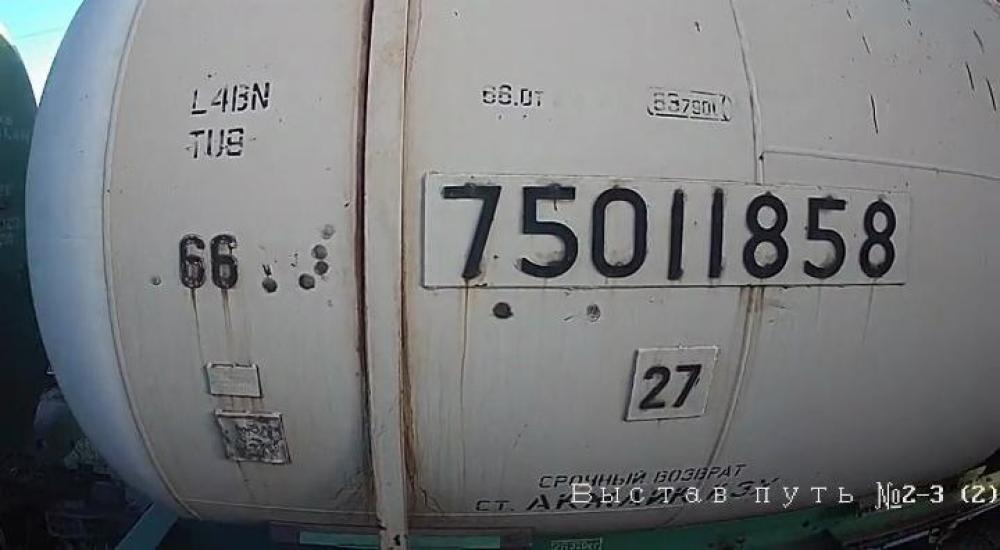Wagon-number: (431, 174, 900, 285)
